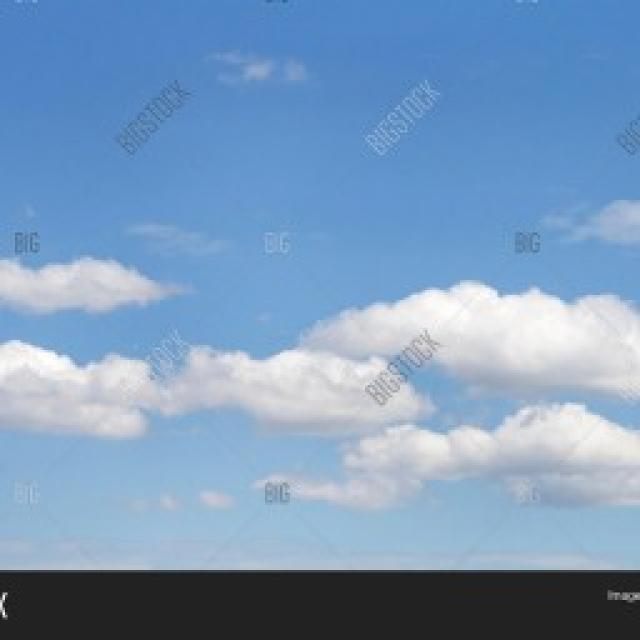Cs: (1, 255, 639, 522)
